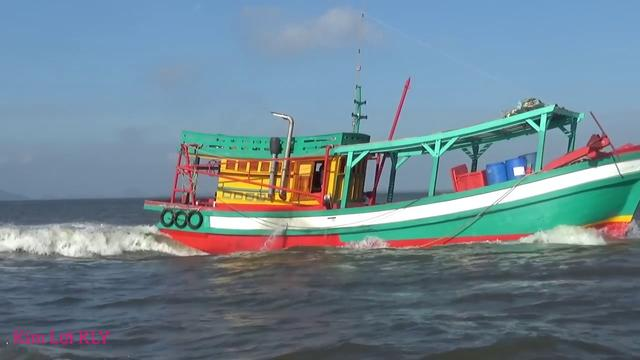Ship: (146, 100, 640, 260)
